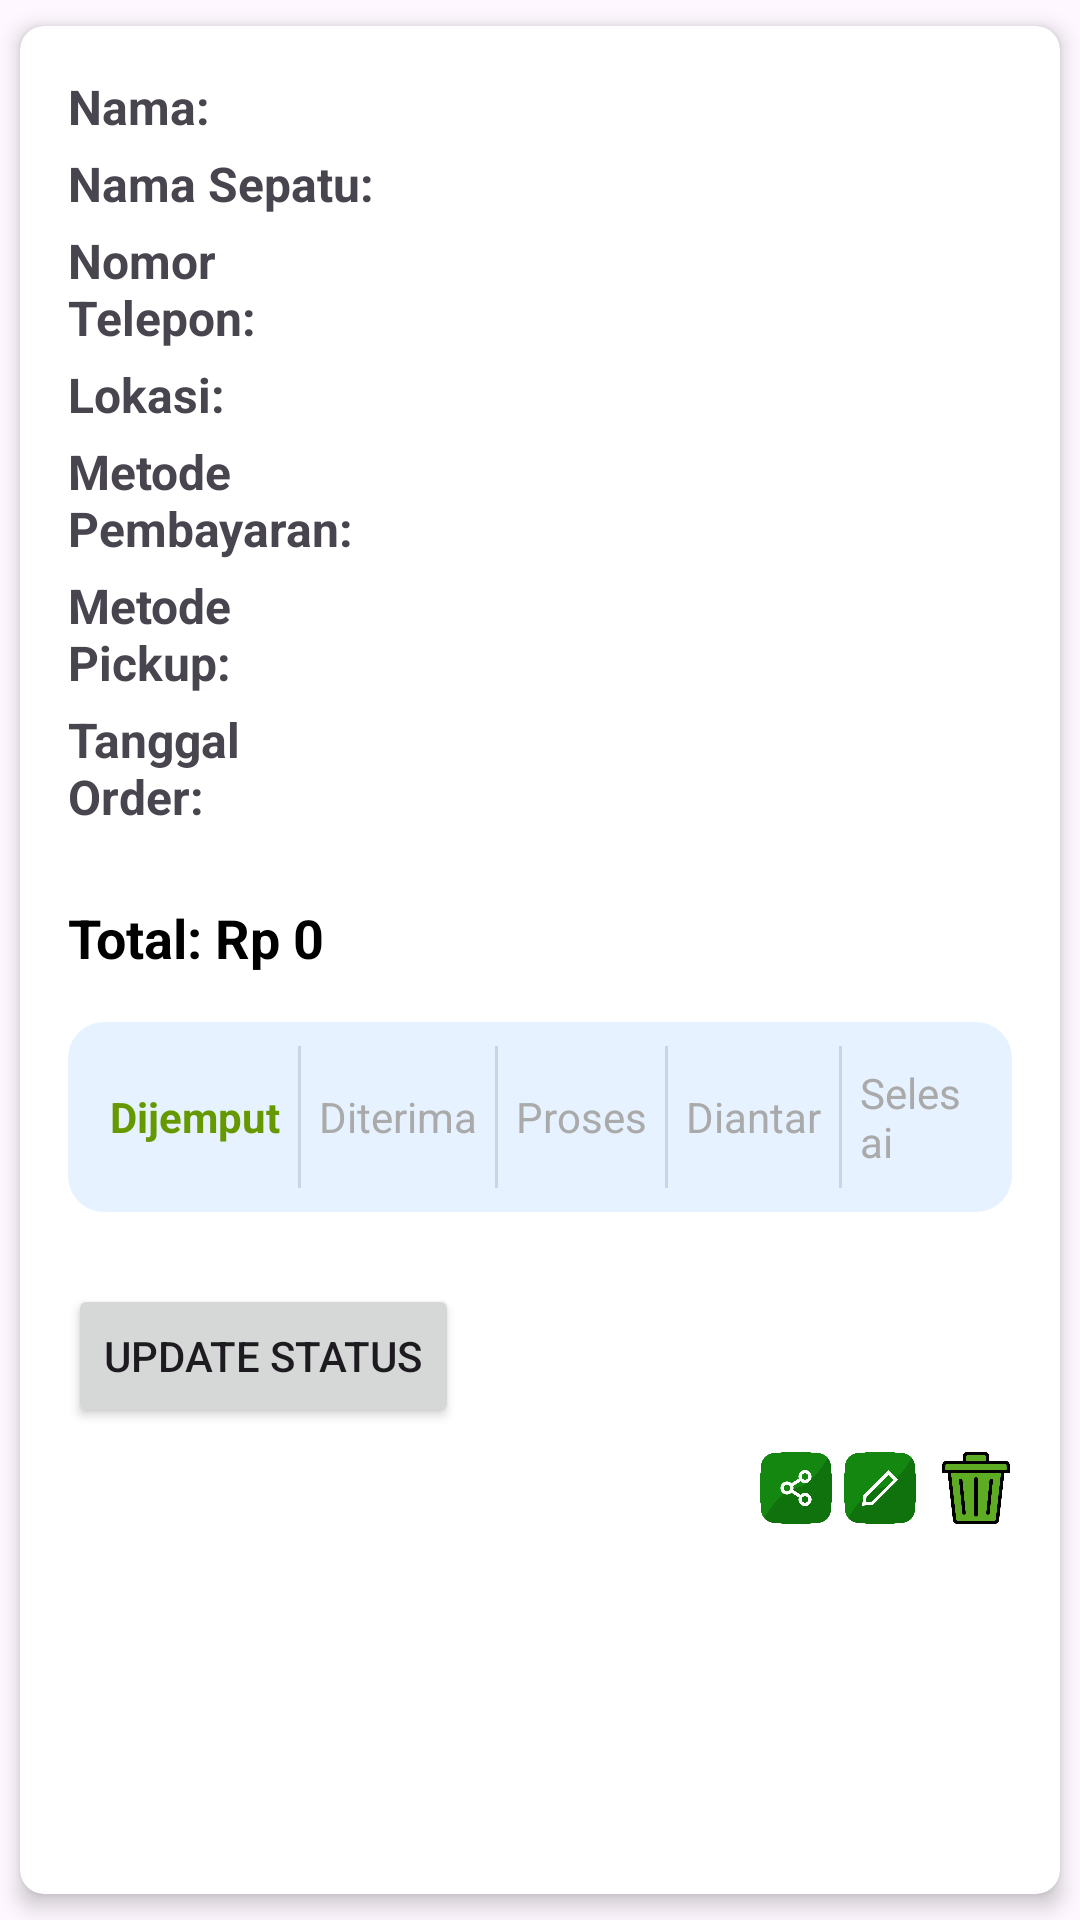

Icons on this 1080px x 1920px Android screen, each with its box as {"x1": x1, "y1": y1, "x2": x2, "y2": y2}:
edit: {"x1": 844, "y1": 1452, "x2": 916, "y2": 1524}
hapus: {"x1": 942, "y1": 1452, "x2": 1010, "y2": 1524}
share: {"x1": 760, "y1": 1452, "x2": 832, "y2": 1524}
